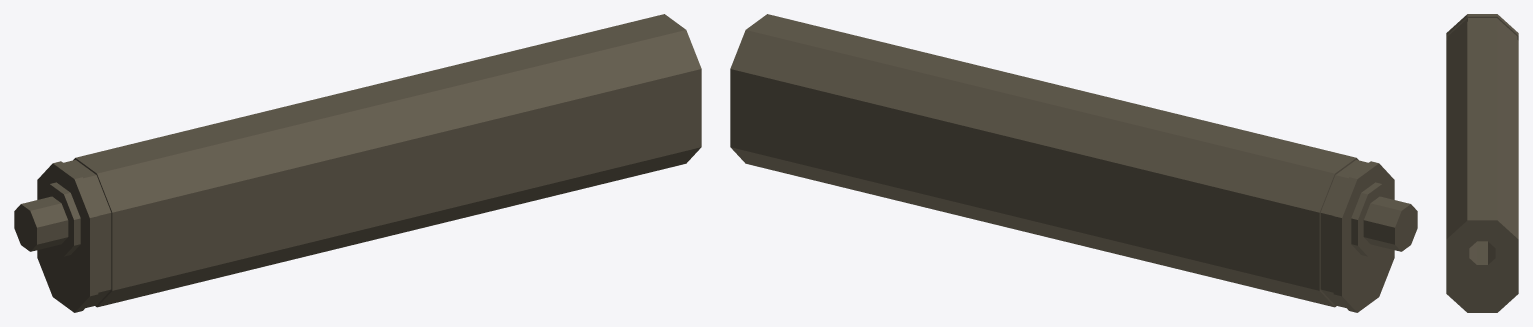
File: Muffler_02_4.fbx
The picture shows the model from 3 angles, left to right: view 1: azimuth 30°, elevation 25°; view 2: azimuth 150°, elevation 25°; view 3: azimuth 270°, elevation 25°; orthographic projection. The views are drawn at different scales.
Parts seen in each view (by area): view 1: Muffler_02_4; view 2: Muffler_02_4; view 3: Muffler_02_4.
Boxes of the visible parts, left/top/right/bottom form: Muffler_02_4: left=14, top=14, right=701, bottom=312; Muffler_02_4: left=730, top=14, right=1417, bottom=312; Muffler_02_4: left=1446, top=14, right=1518, bottom=312.
Size of the model in its own units: 0.2491 by 0.049 by 0.0348.
